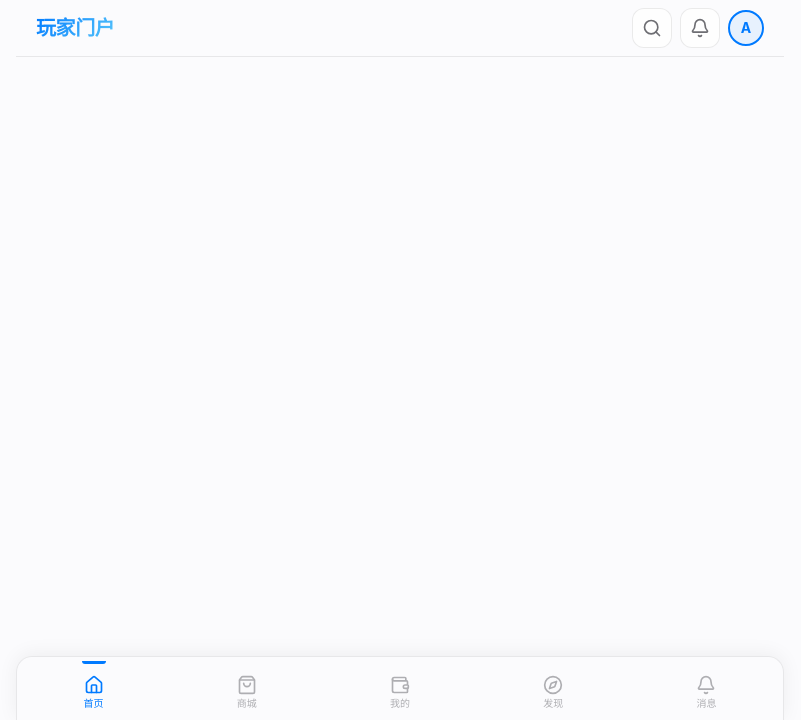
it: Layout — /guild 头像下拉切换项 › 服主身份：显示「切换为玩家」
Click the button named "用户菜单" at (746, 28), box 728,10 -> 764,46
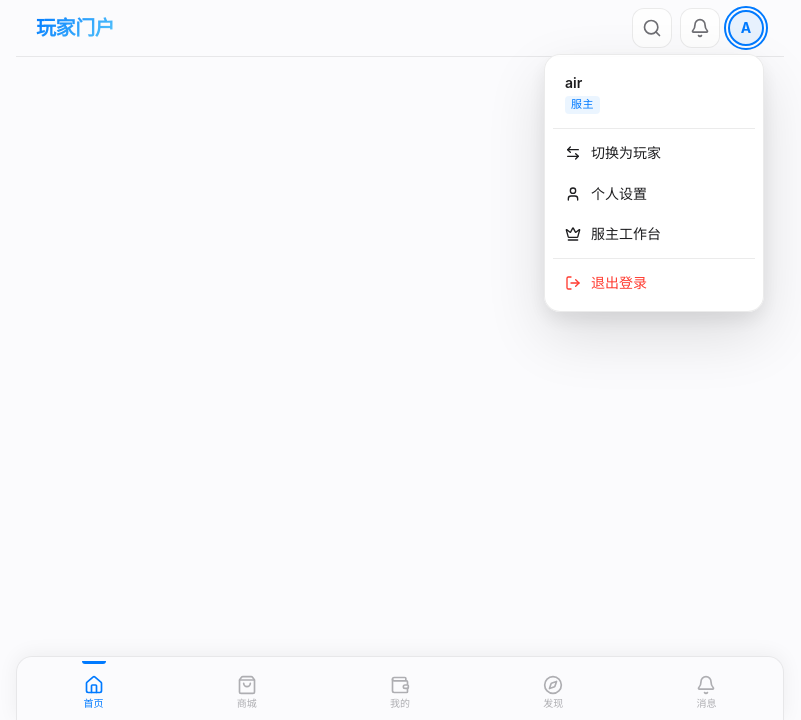
expect the button "切换为玩家" is shown: met, box 553,133 -> 755,174
